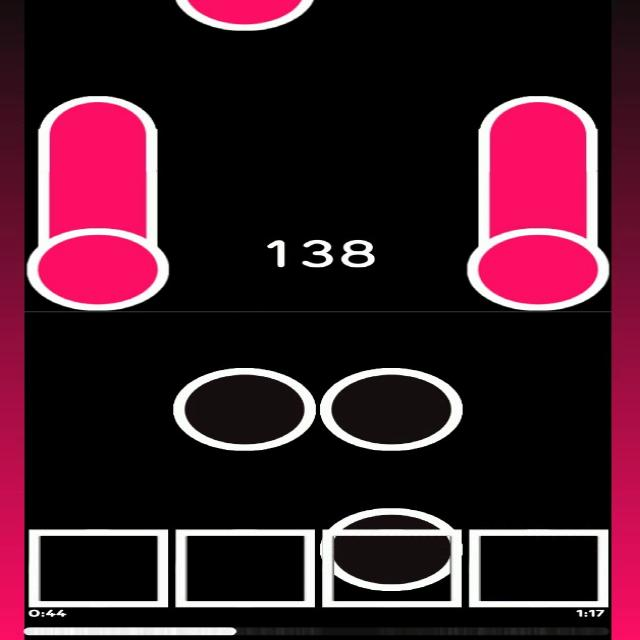end_hold: (474, 85, 602, 134), (39, 86, 154, 131)
note: (172, 364, 317, 452), (316, 366, 464, 452), (322, 504, 464, 590)
start_hold: (27, 205, 170, 311), (464, 209, 612, 311), (171, 0, 316, 30)
